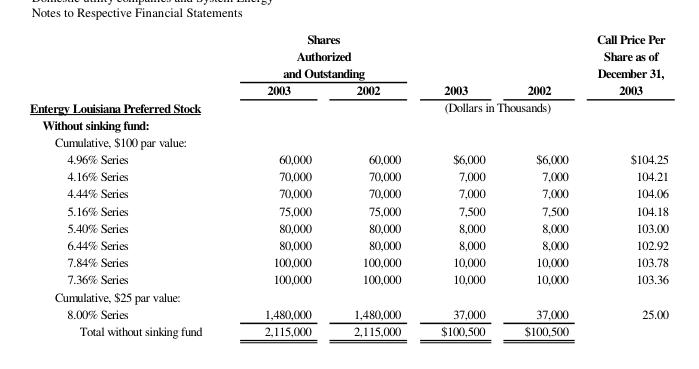table: (29, 29, 668, 338)
table column: (29, 29, 232, 338), (232, 29, 331, 338), (331, 29, 420, 338), (582, 29, 668, 338), (420, 29, 504, 338), (504, 29, 582, 338)
table column header: (29, 29, 668, 98)
table projected row header: (29, 115, 668, 132), (29, 132, 668, 149), (29, 287, 668, 304)
table row: (29, 29, 668, 81), (29, 166, 668, 184), (29, 252, 668, 270), (29, 81, 668, 98), (29, 98, 668, 115), (29, 115, 668, 132), (29, 132, 668, 149), (29, 149, 668, 166), (29, 184, 668, 201), (29, 201, 668, 218), (29, 218, 668, 235), (29, 235, 668, 252), (29, 270, 668, 287), (29, 287, 668, 304), (29, 304, 668, 321), (29, 321, 668, 338)
table spanning cell: (232, 29, 420, 81), (582, 29, 668, 98), (420, 29, 504, 98), (504, 29, 582, 98), (420, 98, 582, 115)
